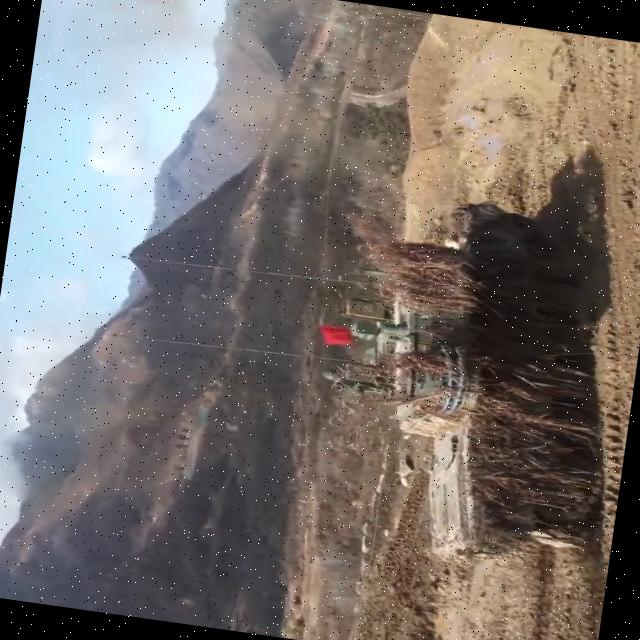korea tank: (296, 181, 640, 581)
